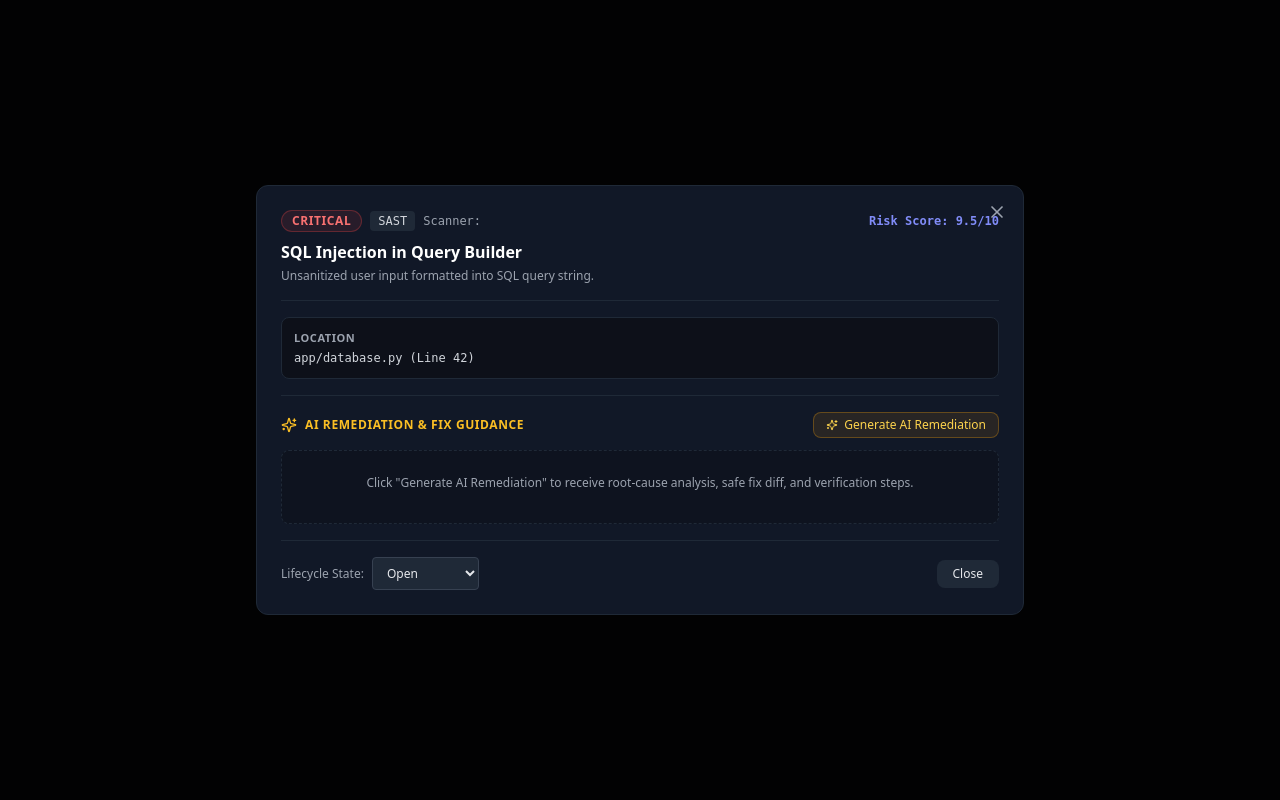
Test: State Synchronization & AI Remediation › 1. Generates AI remediation and immediately renders it without refreshing
expect the text "Root Cause: User input directly interpolated" is not shown: met
Step 1. Click the button "Generate AI Remediation" → coordinates (906, 425), box top-left (813, 412), bottom-right (999, 438)
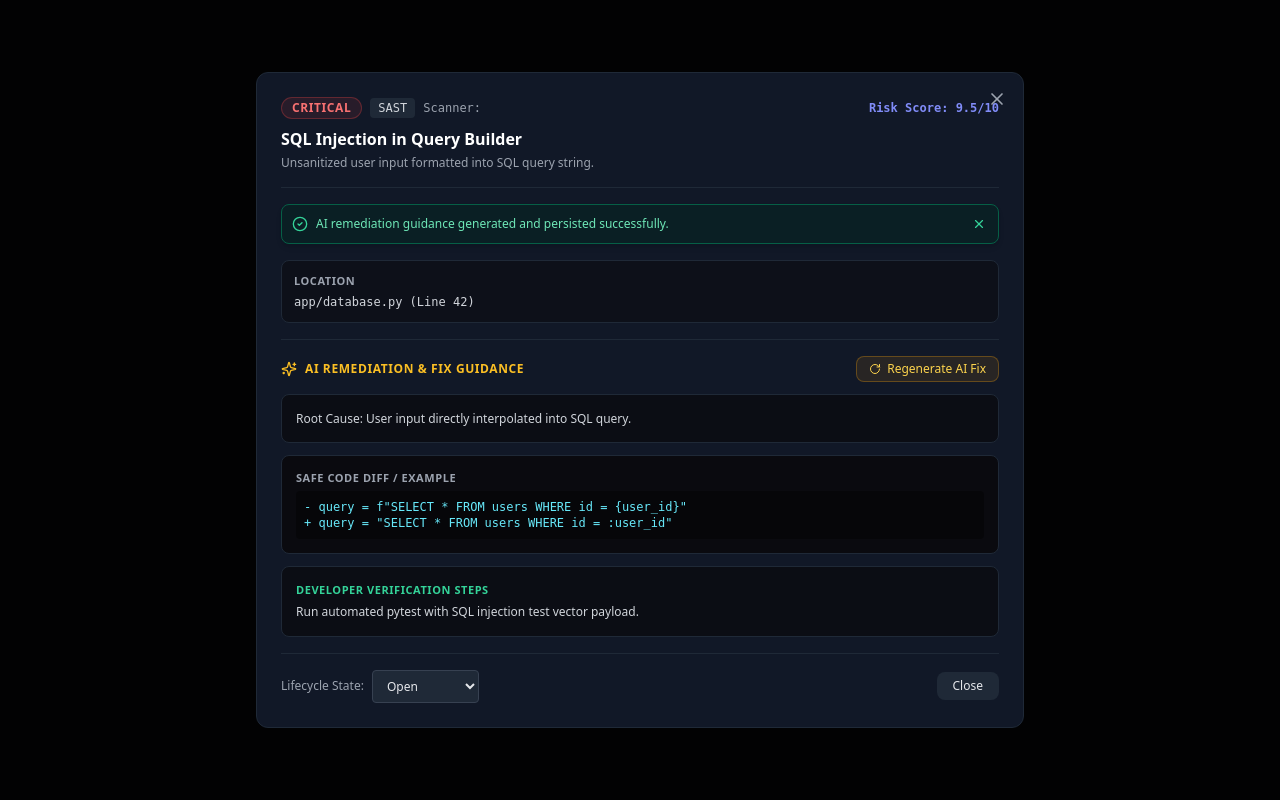
expect the text "Root Cause: User input directly interpolated into SQL query." is shown: met, box top-left (281, 394), bottom-right (999, 443)
expect the text "Safe Code Diff / Example" is shown: met, box top-left (296, 470), bottom-right (456, 485)
expect the text "Developer Verification Steps" is shown: met, box top-left (296, 582), bottom-right (489, 597)
